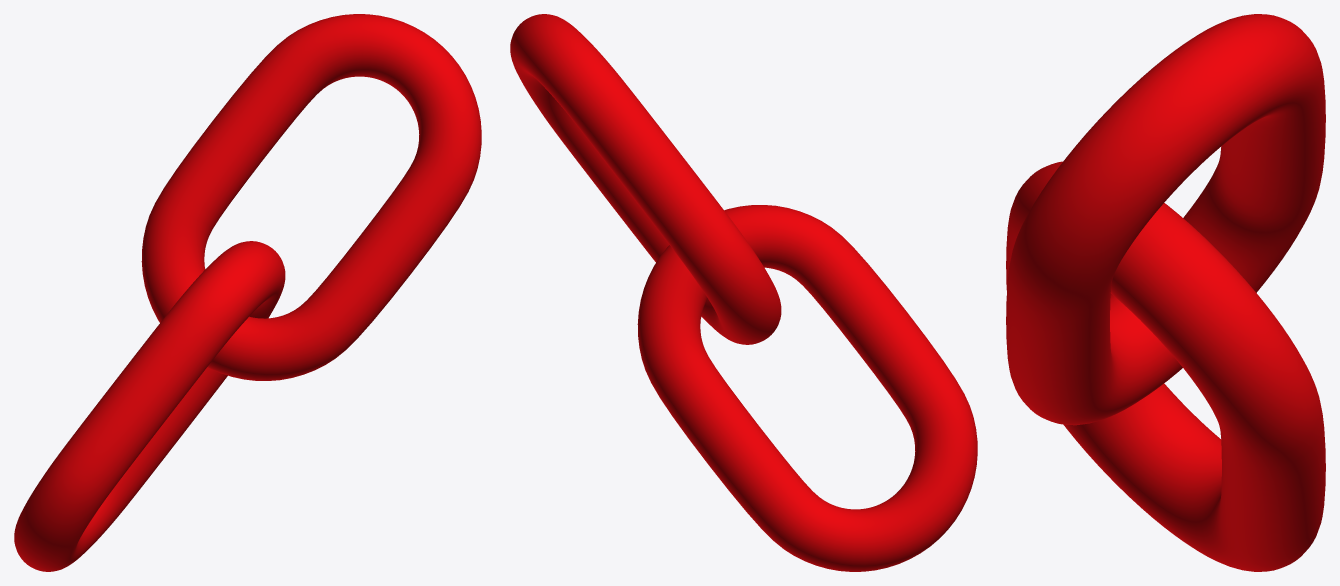
3 renders of one model, left to right at view 1: azimuth 30°, elevation 25°; view 2: azimuth 150°, elevation 25°; view 3: azimuth 270°, elevation 25°, orthographic. The views are drawn at different scales.
Visible parts, largest first — view 1: Plane.001; view 2: Plane.001; view 3: Plane.001.
Part boxes in pixels (box(x1,y1,x2,y2)): Plane.001: box(14, 14, 481, 571); Plane.001: box(510, 14, 977, 571); Plane.001: box(1006, 14, 1325, 571).
Bounding box in the file's own units: 1.74 × 1.74 × 0.6632.
